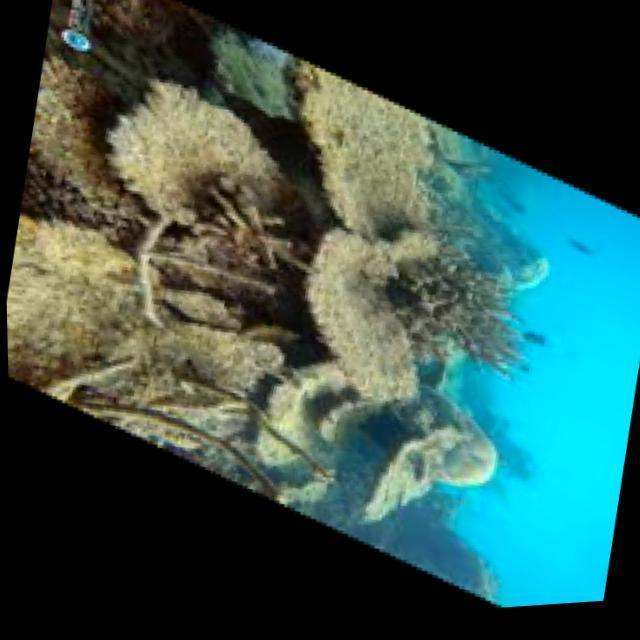Dead Coral: (3, 108, 335, 496), (67, 52, 341, 337), (230, 48, 526, 262), (276, 210, 486, 465), (358, 395, 533, 574), (382, 236, 557, 390)
